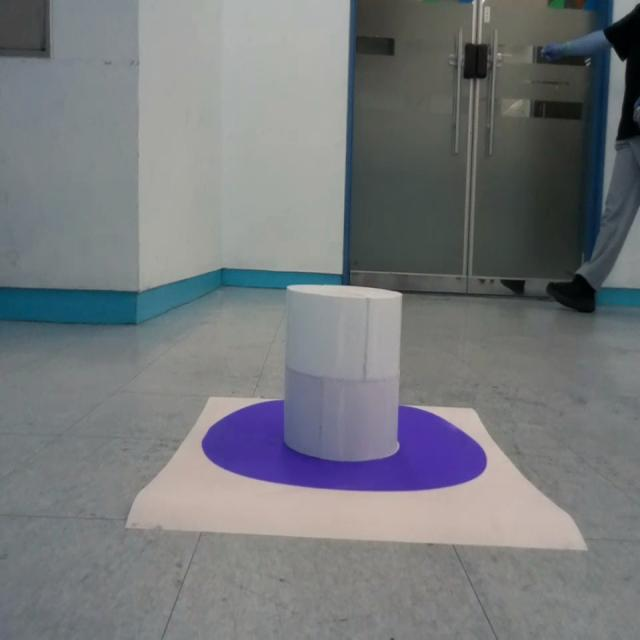cylinder: (285, 284, 403, 463)
